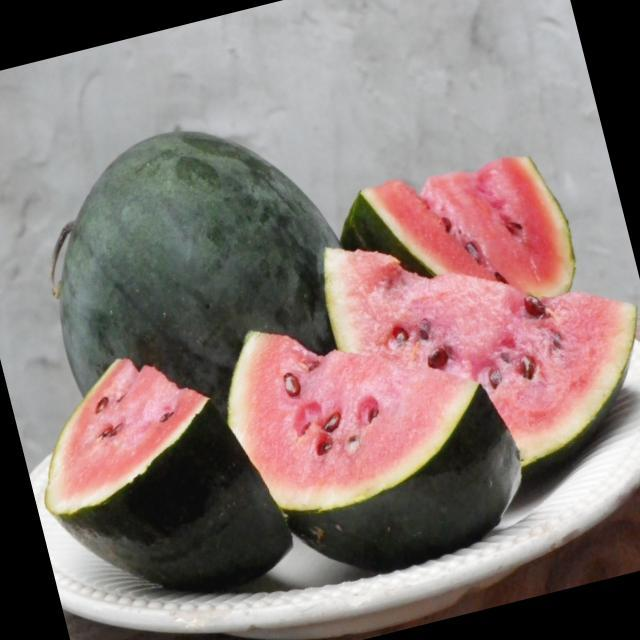WATERMELON: (18, 92, 369, 422), (199, 255, 532, 581), (313, 175, 640, 488), (18, 324, 303, 622), (333, 144, 588, 348)
